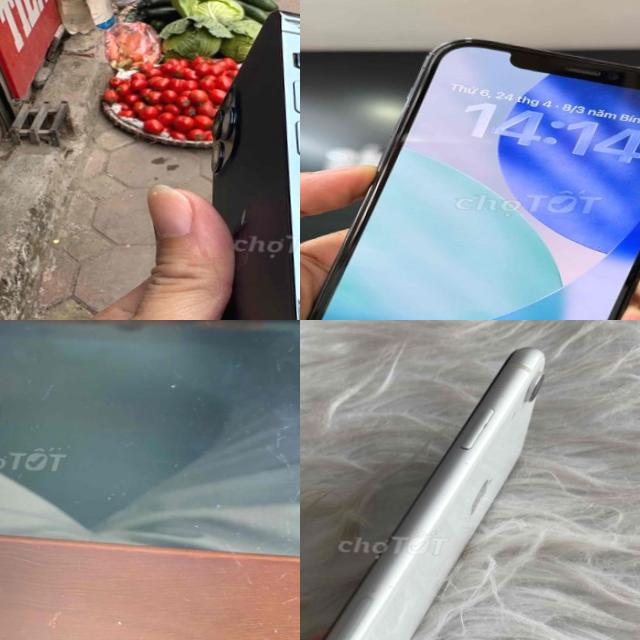gen_12_13: (300, 31, 640, 320), (183, 0, 300, 320)
gen_x_xs: (323, 348, 545, 640)
